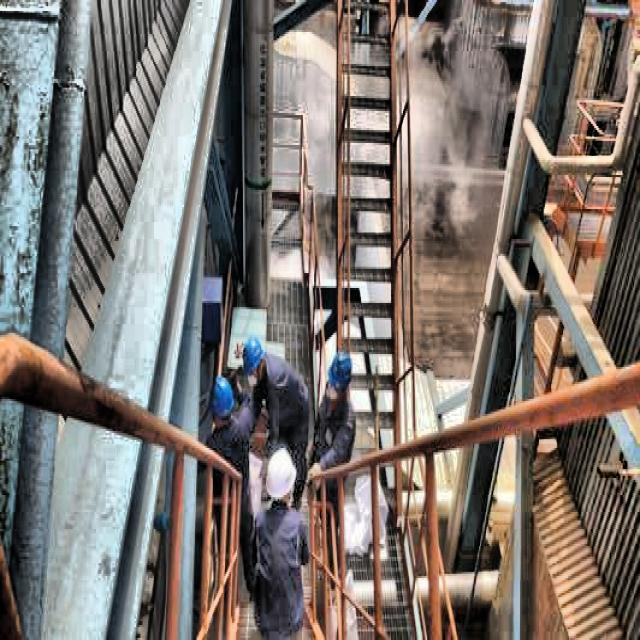helmet: (324, 348, 354, 407), (266, 446, 293, 508), (209, 375, 236, 431), (240, 337, 264, 384)
